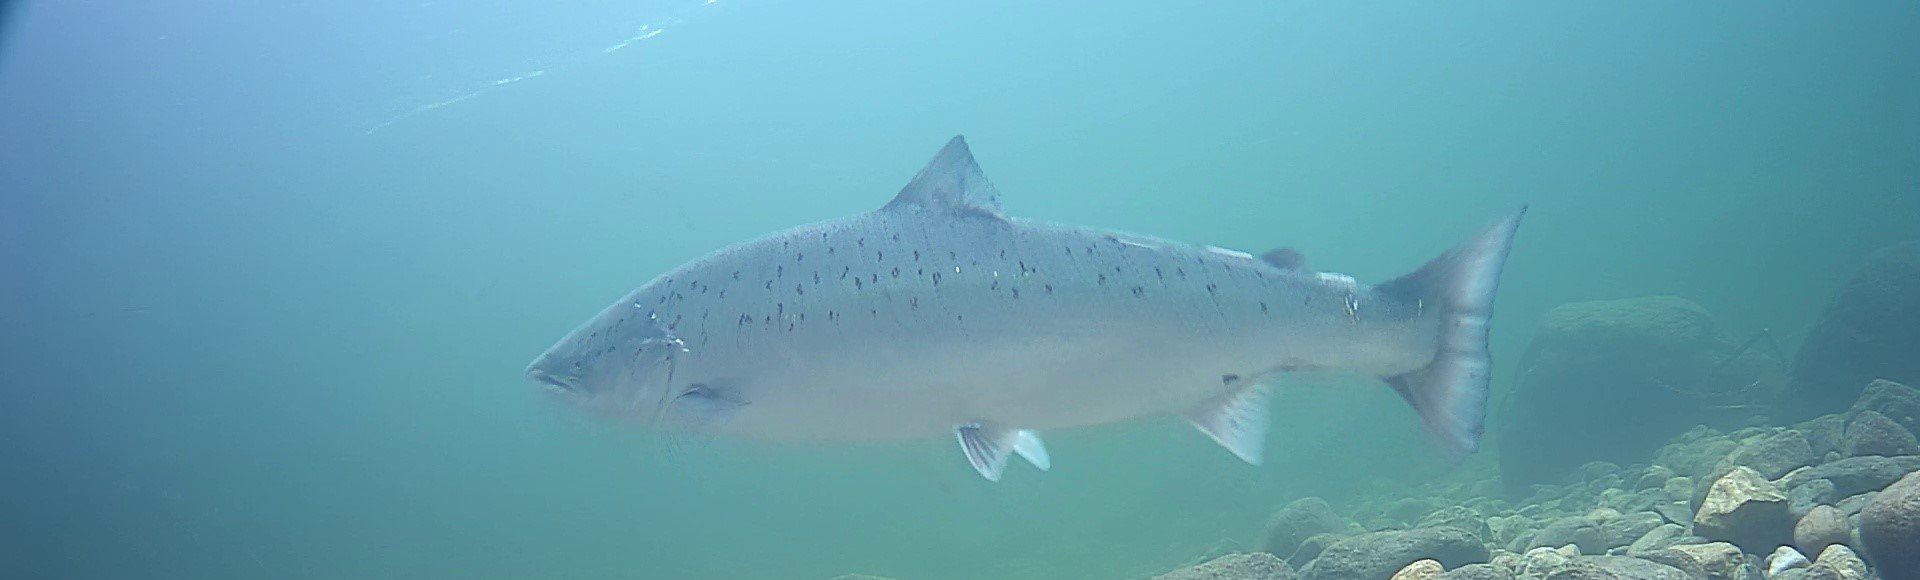salmon: (522, 133, 1536, 489)
